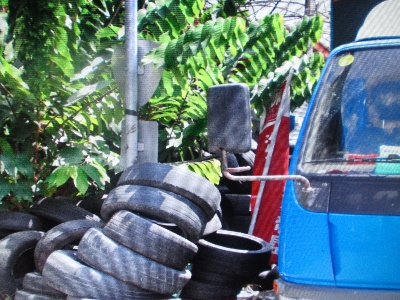tire: (74, 226, 192, 297), (117, 159, 222, 222), (101, 208, 198, 271), (100, 183, 206, 240), (197, 227, 273, 276)
